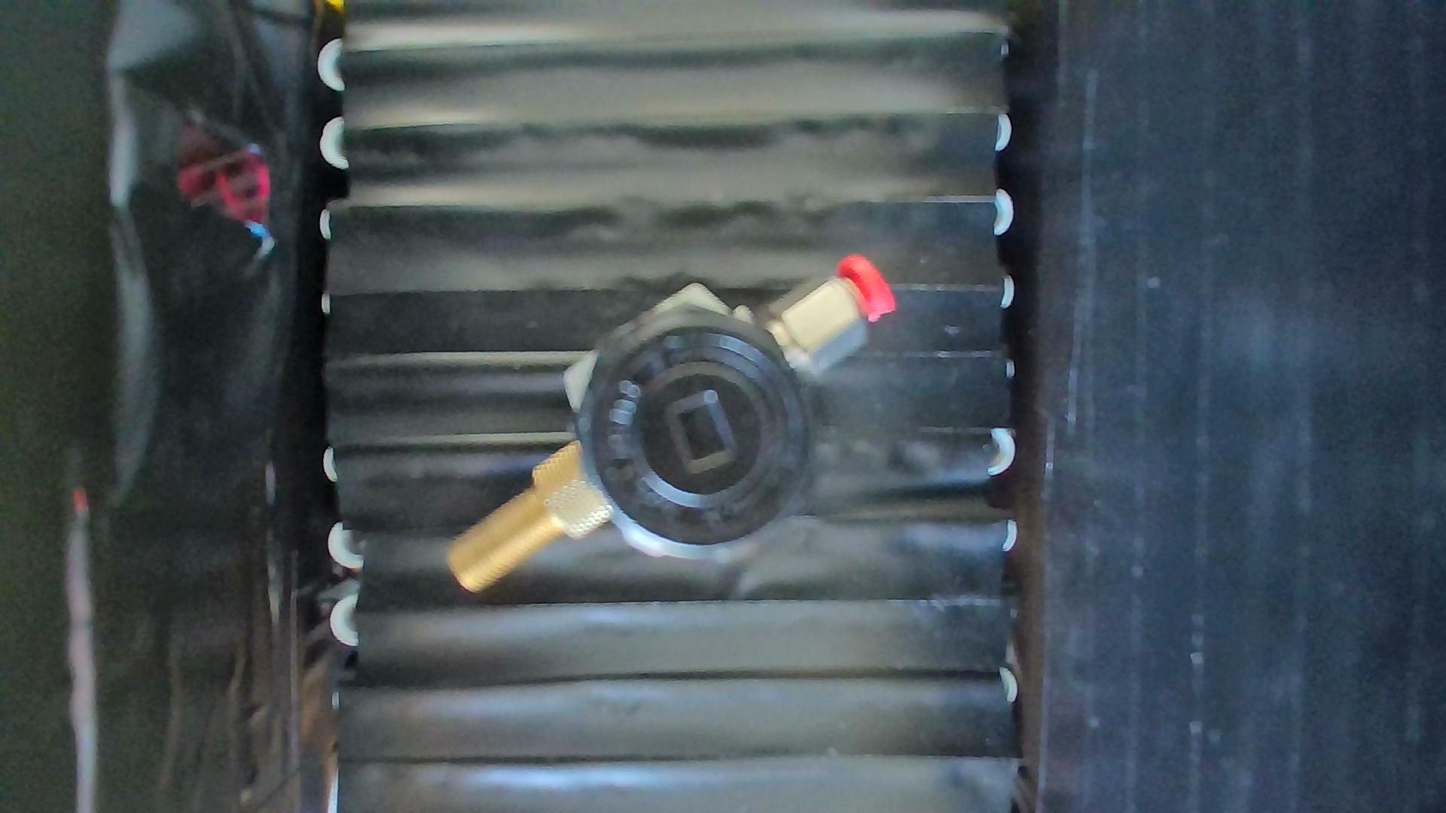regulator: (443, 252, 899, 595)
